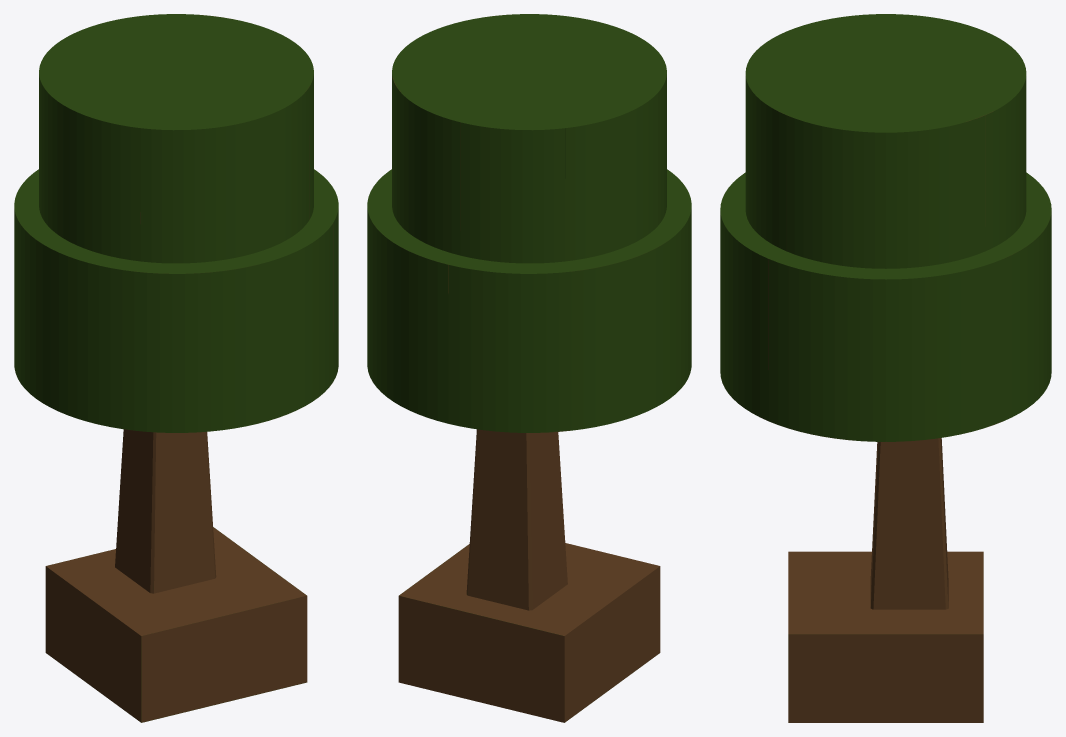
File: tree1.fbx
3 renders of one model, left to right at view 1: azimuth 30°, elevation 25°; view 2: azimuth 150°, elevation 25°; view 3: azimuth 270°, elevation 25°, orthographic. The views are drawn at different scales.
Visible parts, largest first — view 1: Cube.042; view 2: Cube.042; view 3: Cube.042.
Boxes of the visible parts, x1,y1,x2,y2 form: Cube.042: (14,14,338,722); Cube.042: (367,14,691,722); Cube.042: (720,14,1051,722).
Bounding box in the file's own units: 420 × 420 × 852.
